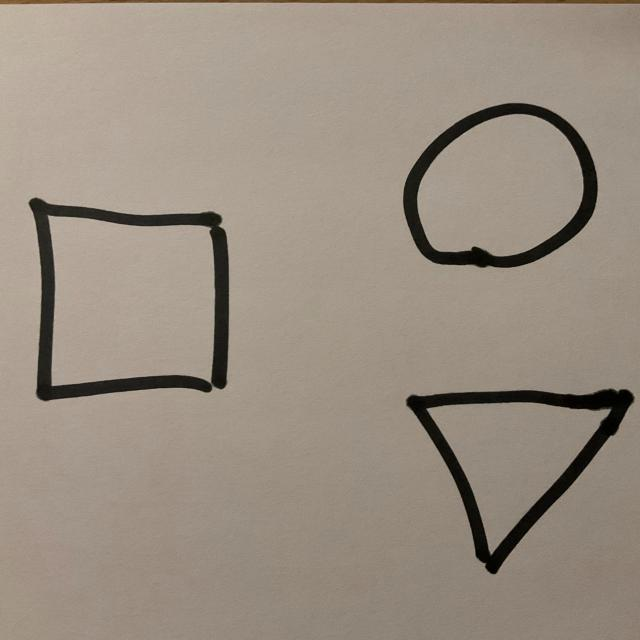Dreieck: (406, 390, 636, 577)
Kreis: (401, 102, 599, 271)
Quadrat: (28, 199, 232, 404)
